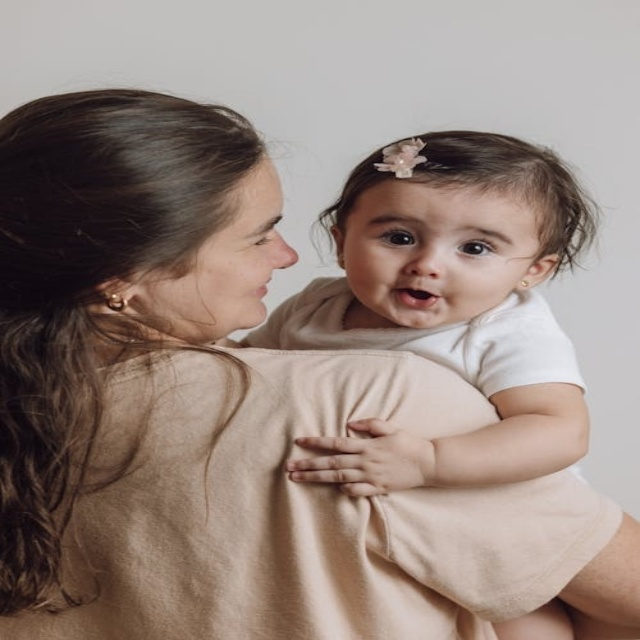Sin_gafas: (352, 206, 525, 264), (204, 202, 293, 257)
Sin_guantes: (289, 418, 434, 497)
Sin_mascara: (195, 268, 291, 328), (369, 278, 467, 329)
